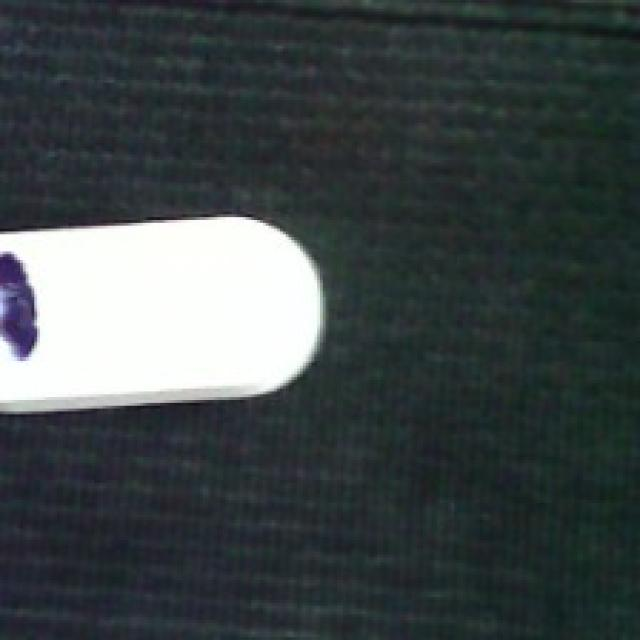defected: (0, 208, 331, 414)
